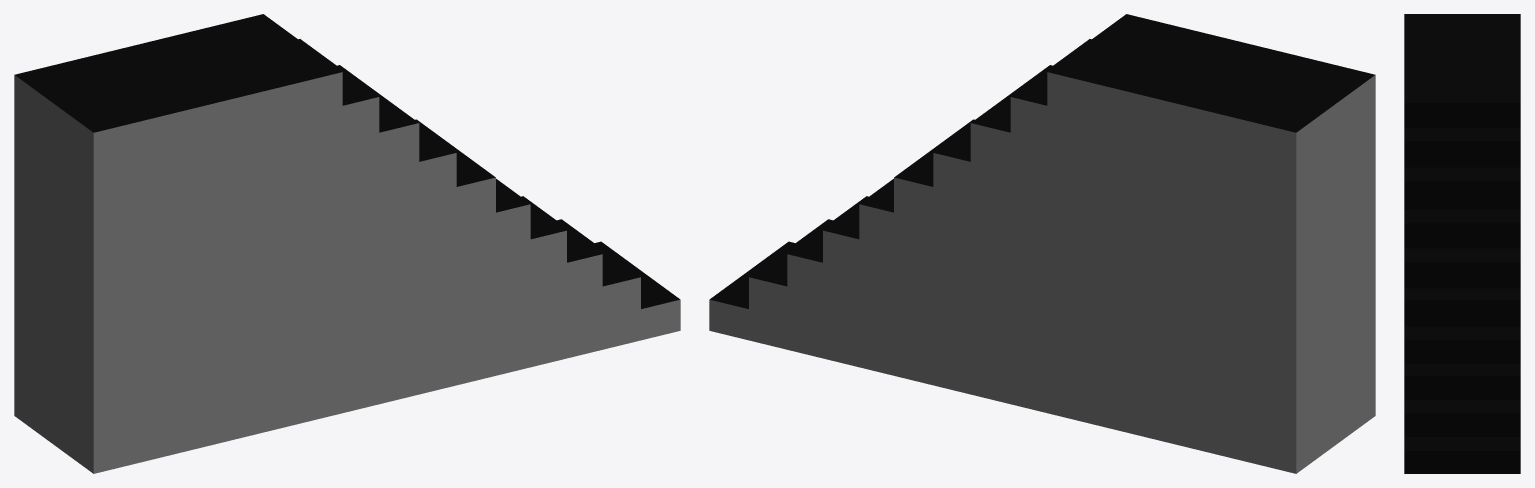
File: high stairs.fbx
The picture shows the model from 3 angles, left to right: view 1: azimuth 30°, elevation 25°; view 2: azimuth 150°, elevation 25°; view 3: azimuth 270°, elevation 25°; orthographic projection. The views are drawn at different scales.
Parts seen in each view (by area): view 1: Куб; view 2: Куб; view 3: Куб.
Boxes of the visible parts, box(x1,y1,x2,y2) form: Куб: box(14, 14, 680, 473); Куб: box(709, 14, 1375, 473); Куб: box(1404, 14, 1520, 473).
Size of the model in its own units: 854 by 475 by 200.
